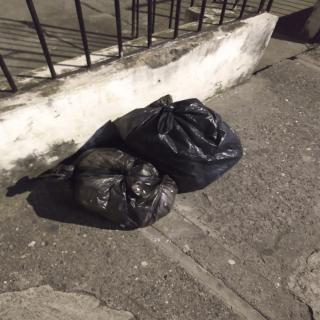Garbage: (113, 97, 245, 193), (66, 149, 182, 230)
